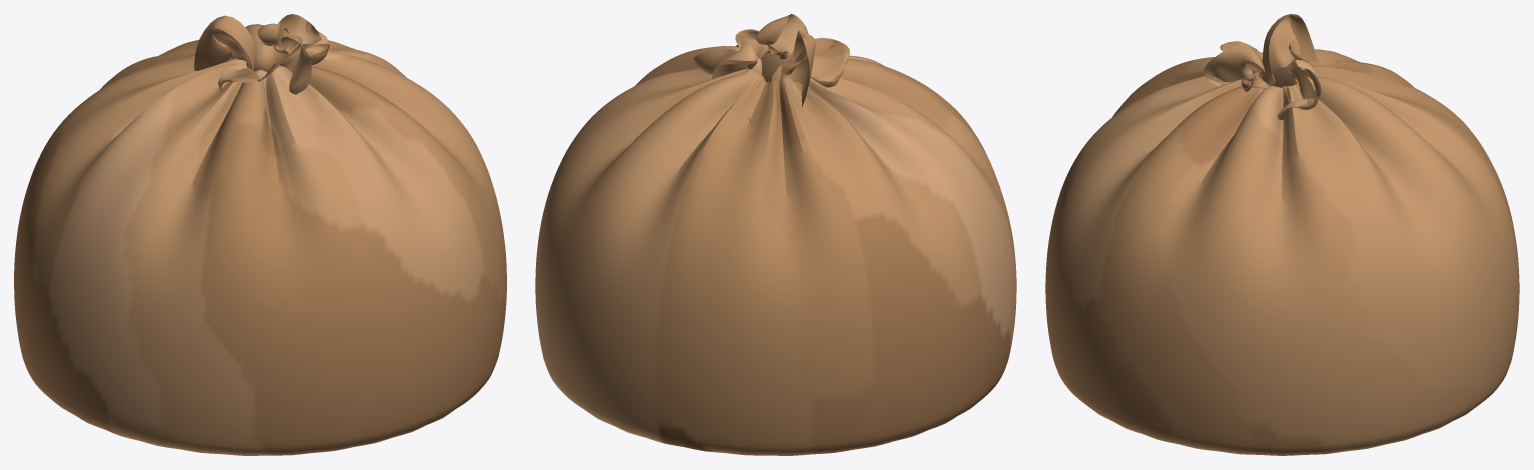
The model's file is bigsack.glb.
The picture shows the model from 3 angles, left to right: view 1: azimuth 30°, elevation 25°; view 2: azimuth 150°, elevation 25°; view 3: azimuth 270°, elevation 25°; orthographic projection. The views are drawn at different scales.
Visible parts, largest first — view 1: bigsack; view 2: bigsack; view 3: bigsack.
Boxes of the visible parts, bbox=[...] form: bigsack: bbox=[14, 14, 506, 455]; bigsack: bbox=[535, 14, 1016, 455]; bigsack: bbox=[1045, 14, 1519, 455].
Bounding box in the file's own units: 0.6188 × 0.5017 × 0.6187.
Materials: 1 (1 with a texture image).
